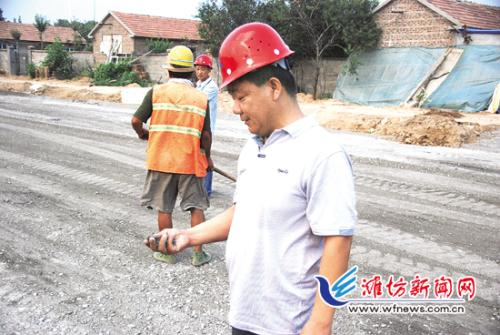boots: (191, 249, 211, 265), (153, 251, 176, 264)
hard-hat: (218, 20, 295, 90), (160, 44, 195, 72), (193, 53, 213, 68)
person: (143, 20, 359, 334), (130, 45, 213, 267), (191, 53, 219, 197)
vest: (136, 78, 207, 173)
